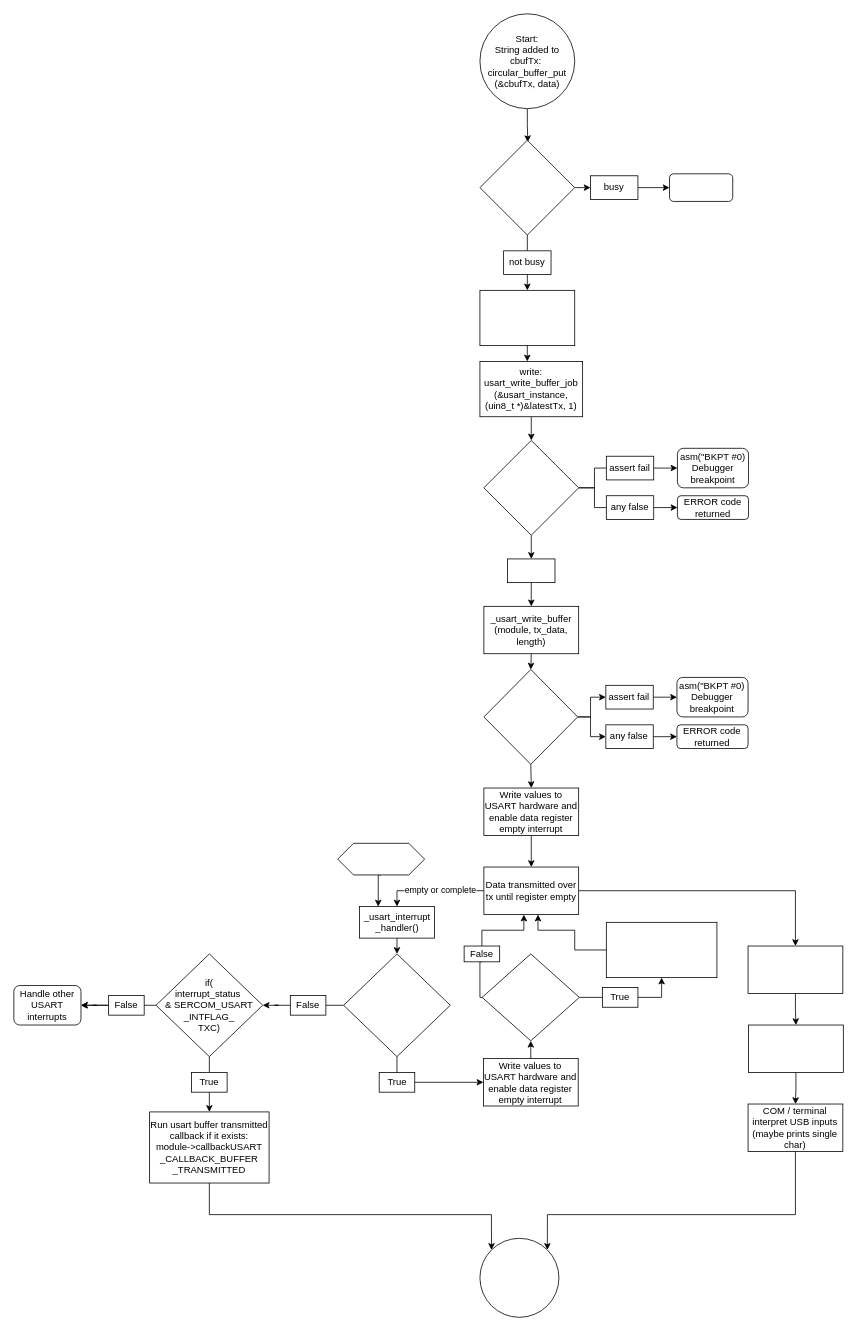
The diagram is 857 pixels wide and 1331 high, and some of its shapes have lost their labels. The centre of each missing label's shape, as x and y in pixels:
"All true" belongs at point 531,570.
"Check job status: usart_get_job _status()" belongs at point 527,187.
"disable data register empty interrupt and enable transmission complete interrupt" belongs at point 661,950.
"Do not attempt write" belongs at point 701,187.
"End: Whole message shown on PC" belongs at point 519,1277.
"Hardware UART conversion to USB on SAMW25 xplained board" belongs at point 795,969.
"if( --(module-> remaining_tx _buffer_ length) == 0)" belongs at point 530,997.
"if( interrupt_status & SERCOM_ USART _INTFLAG_ DRE)" belongs at point 396,1005.
"Load latestTx: circular_buffer_get (&cbufTx, *(uint8_t*)&latestTx)`" belongs at point 527,318.
"Other USART interrupt source" belongs at point 381,859.
"Sanity checks and not busy (remaining buffer len > 0)." belongs at point 530,716.
"Sanity checks, Length not 0, transmitter enabled" belongs at point 531,487.
"USB message to computer COM" belongs at point 795,1048.
